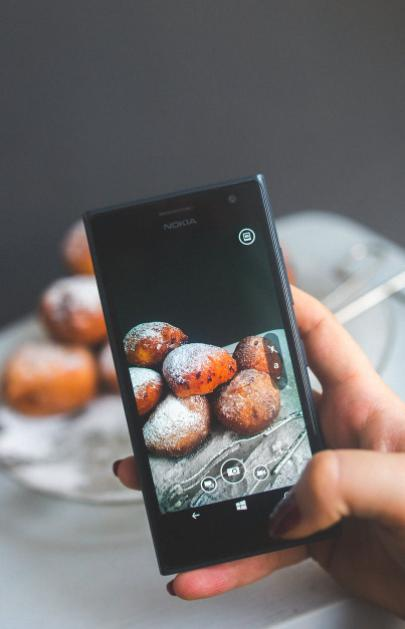mobile: (83, 175, 340, 575)
